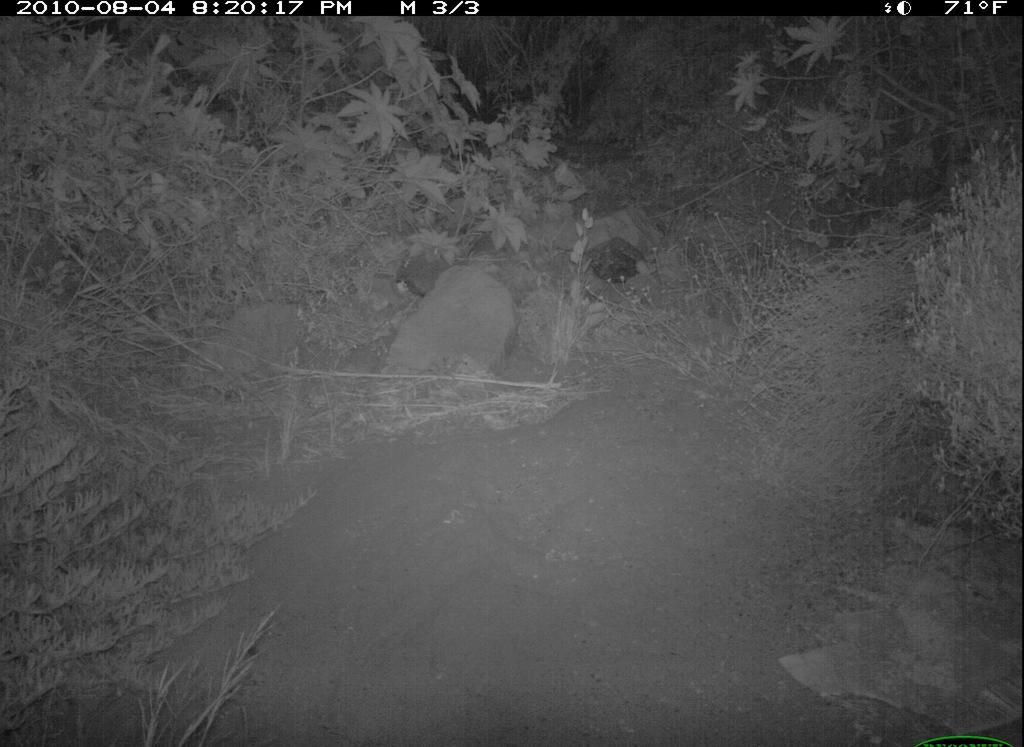cat: (565, 226, 653, 287)
